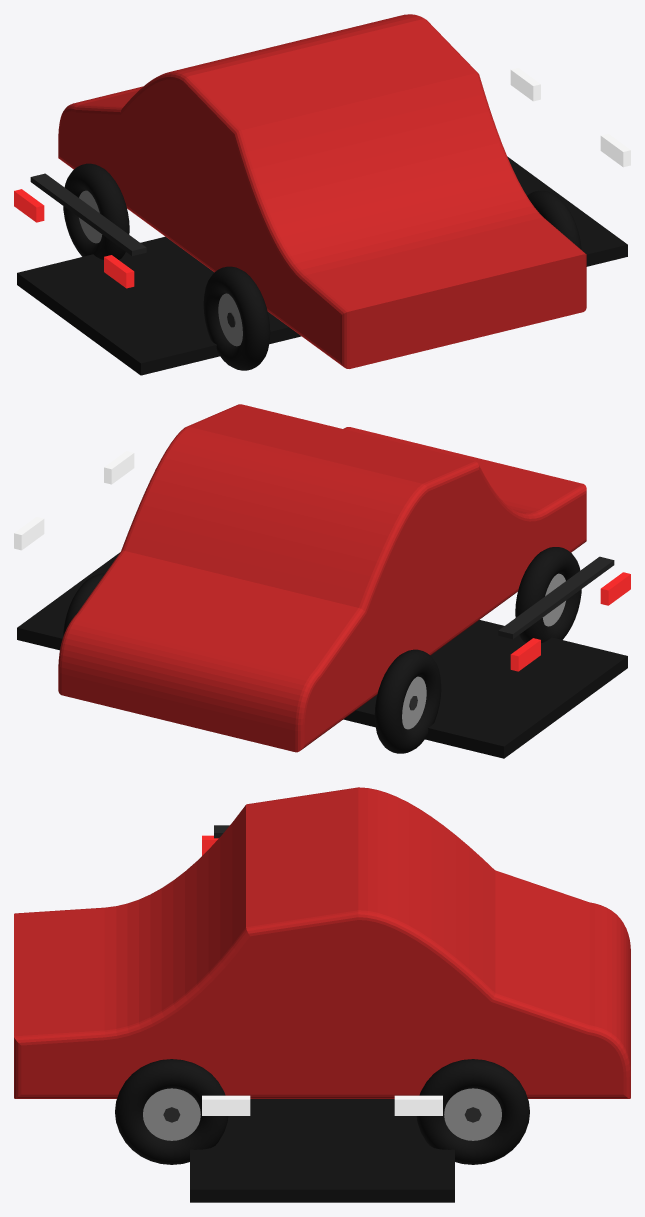
The model's file is sport.glb.
The picture shows the model from 3 angles, top to bottom: view 1: azimuth 30°, elevation 25°; view 2: azimuth 150°, elevation 25°; view 3: azimuth 270°, elevation 25°; orthographic projection. The views are drawn at different scales.
Bounding box in the file's own units: 5.18 × 2.13 × 5.12.
